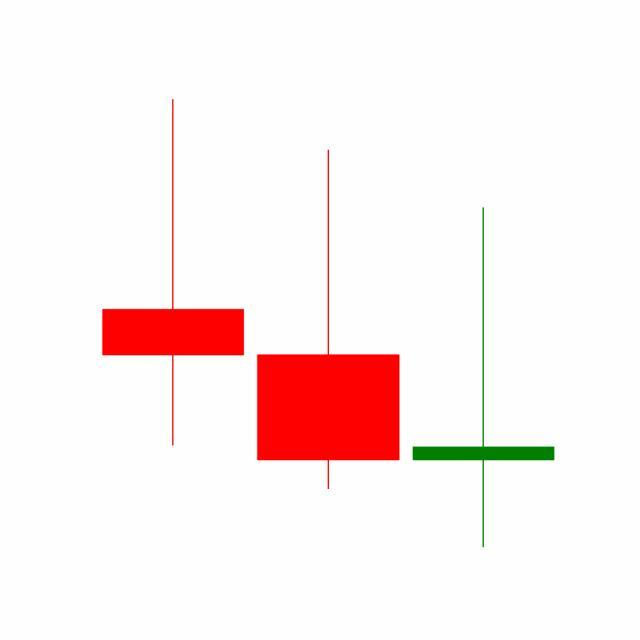Spinning Top: (406, 204, 562, 551)
